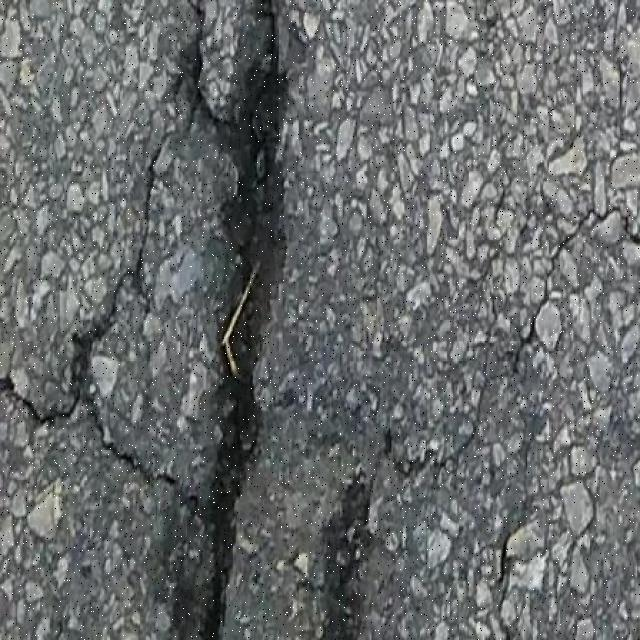Crack: (0, 0, 288, 639), (320, 426, 473, 639), (516, 206, 640, 363), (496, 538, 510, 639)
